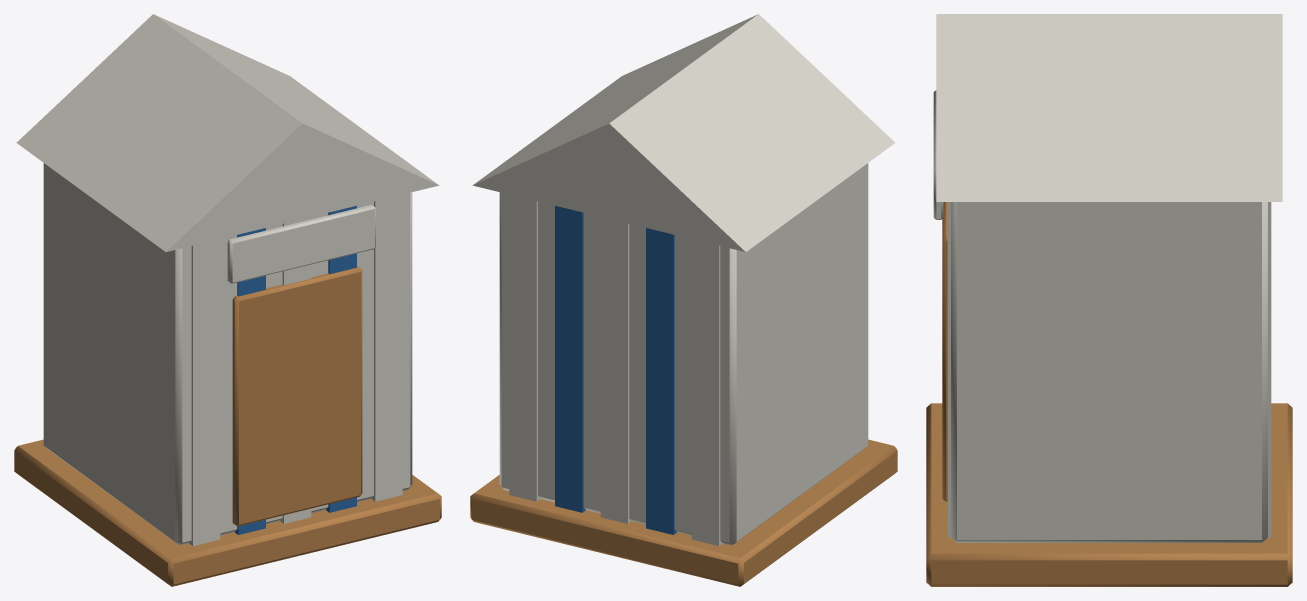
File: 137_cabine_plage.fbx
3 renders of one model, left to right at view 1: azimuth 30°, elevation 25°; view 2: azimuth 150°, elevation 25°; view 3: azimuth 270°, elevation 25°, orthographic. The views are drawn at different scales.
Visible parts, largest first — view 1: Cabine, Nom; view 2: Cabine; view 3: Cabine, Nom.
Boxes of the visible parts, x1=… form: Cabine: x1=14, y1=14, x2=441, y2=586; Nom: x1=227, y1=205, x2=375, y2=283; Cabine: x1=470, y1=14, x2=897, y2=586; Cabine: x1=926, y1=14, x2=1292, y2=586; Nom: x1=933, y1=90, x2=943, y2=219.
Bounding box in the file's own units: 0.84 × 1.26 × 0.84.
1 material, 1 textured.
